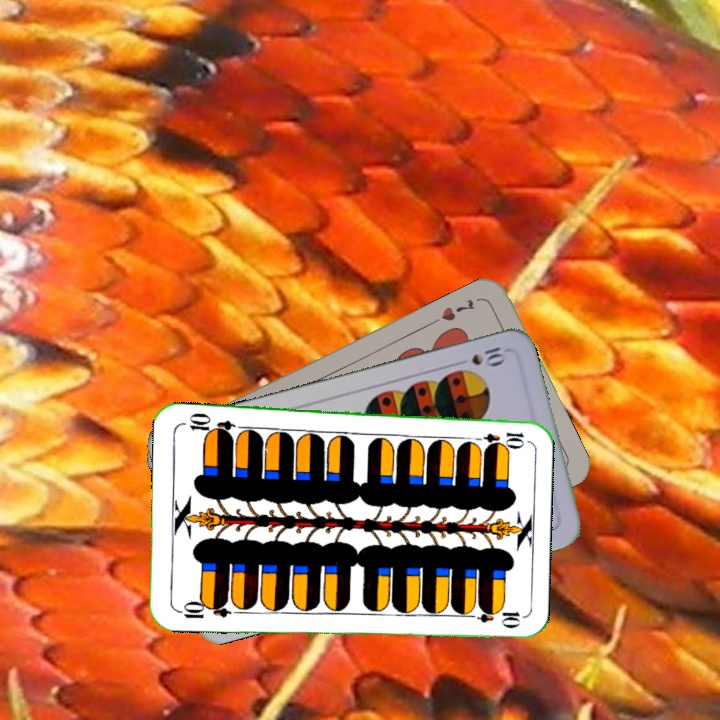E10: (173, 597, 232, 622), (468, 428, 527, 447)
H7: (437, 295, 478, 324)
S10: (451, 343, 509, 368)
